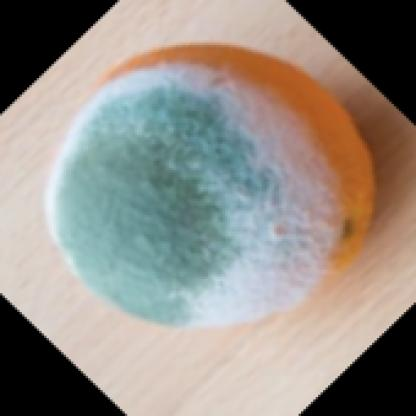rotten: (46, 43, 375, 335)
